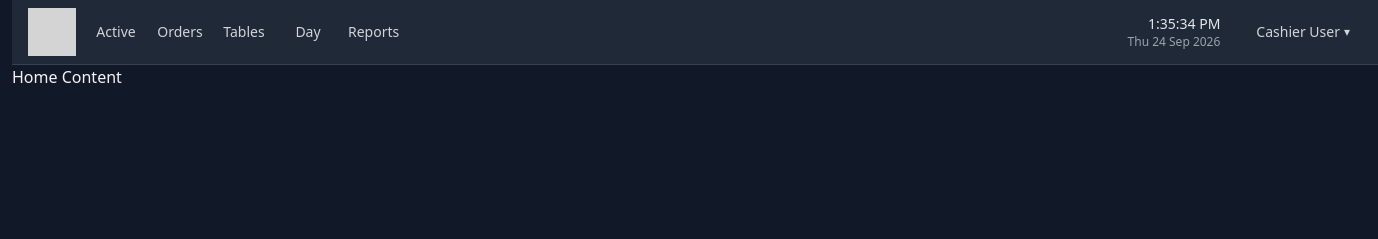
it: Layout TopBar › does not show Admin in the user menu when manageMenu is false
Click the button "Cashier User ▾".
click(1303, 32)  # box [1244,8,1362,56]
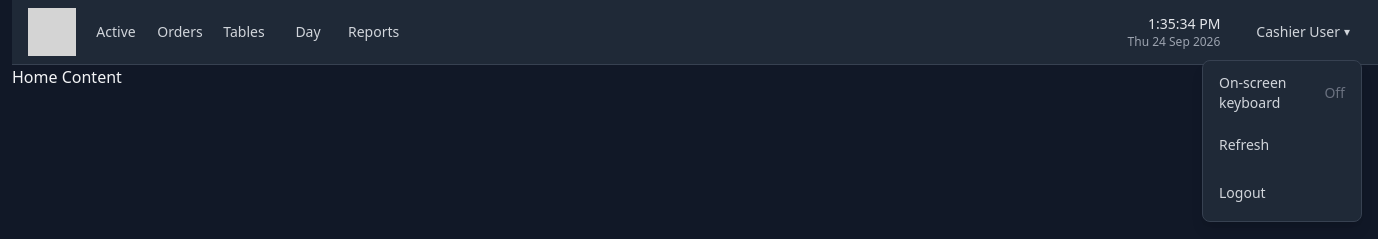
Result: the menu item "Refresh" is shown at [1203,121,1361,169]
Result: the menu item "Logout" is shown at [1203,169,1361,217]
